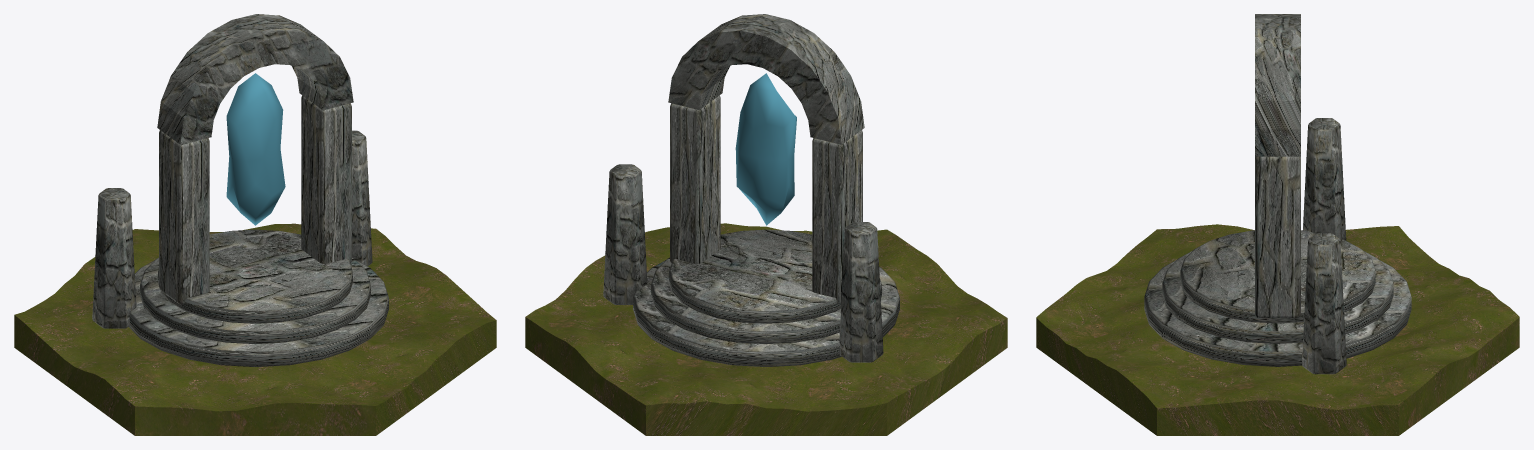
Rendered from env-terrain-portal.glb.
The picture shows the model from 3 angles, left to right: view 1: azimuth 30°, elevation 25°; view 2: azimuth 150°, elevation 25°; view 3: azimuth 270°, elevation 25°; orthographic projection.
Parts seen in each view (by area): view 1: terrain portal · authored textured miniature; view 2: terrain portal · authored textured miniature; view 3: terrain portal · authored textured miniature.
Part boxes in pixels (bbox=[...]): terrain portal · authored textured miniature: bbox=[14, 14, 496, 435]; terrain portal · authored textured miniature: bbox=[525, 14, 1007, 435]; terrain portal · authored textured miniature: bbox=[1036, 14, 1519, 435].
Bounding box in the file's own units: 1.63 × 1.39 × 1.88.
Materials: 3 (2 with a texture image).
